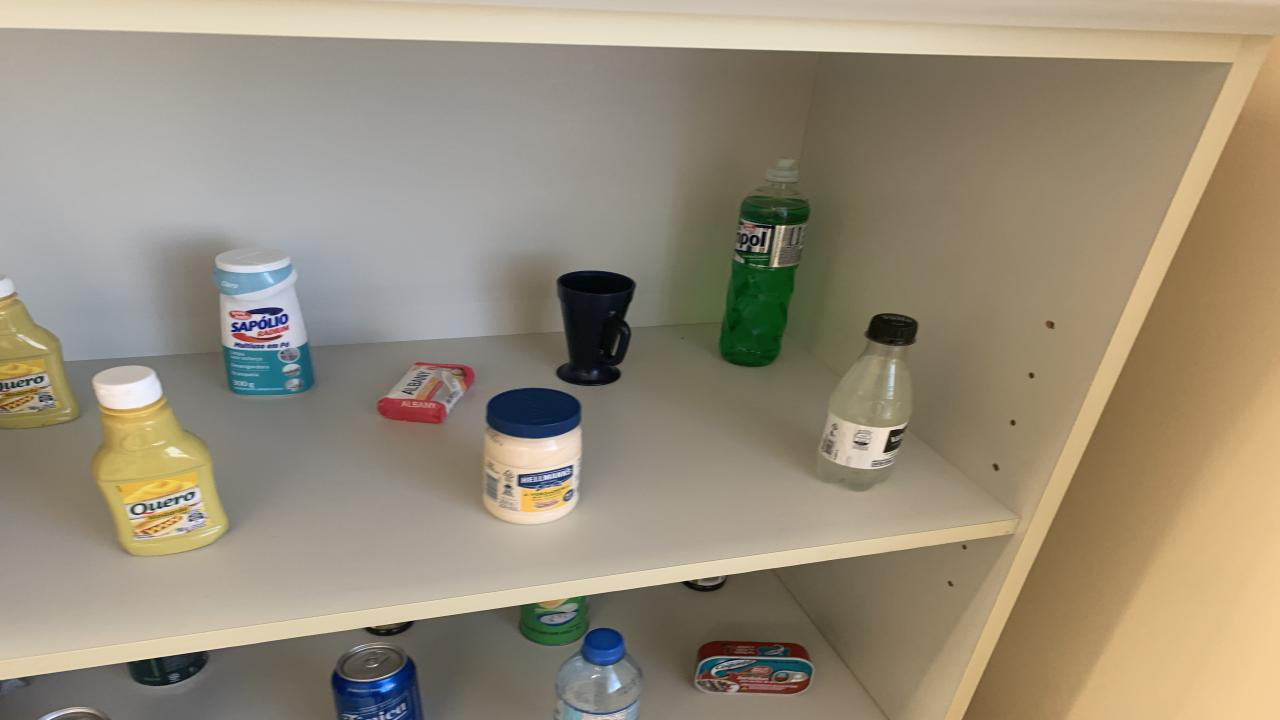Cleaner-Cleanup_Items: (212, 248, 315, 396)
Detergent-Cleanup_Items: (720, 158, 810, 368)
English_Sauce-Pantry_Items: (682, 576, 728, 592), (365, 621, 412, 636)
Guarana_Can-Drinks: (128, 651, 208, 686)
Mayonnaise-Pantry_Items: (482, 388, 582, 525)
Mustard-Pantry_Items: (92, 366, 228, 555), (0, 274, 80, 428)
Pringles-Snacks: (518, 596, 588, 645)
Soap-Cleanup_Items: (378, 362, 472, 422)
Soda-Drinks: (818, 313, 918, 491)
Tea-Drinks: (40, 707, 110, 720)
Tonic-Drinks: (332, 643, 422, 720)
Tuna_Can-Pantry_Items: (695, 641, 815, 694)
Water_Bottle-Drinks: (555, 628, 642, 720)
